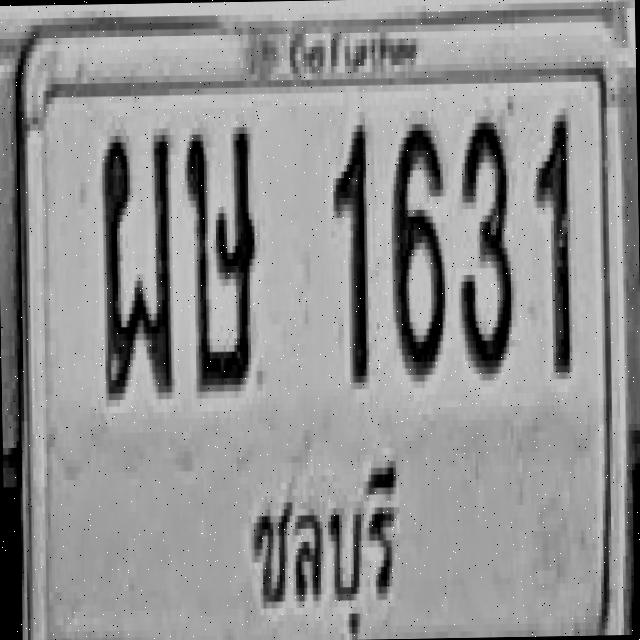1: (525, 84, 596, 434), (319, 111, 383, 423)
3: (450, 86, 526, 417)
37PhorPhueng: (77, 86, 192, 438)
48SorRueSi: (176, 108, 264, 426)
6: (376, 105, 451, 436)
Chonburi: (238, 452, 424, 640)
